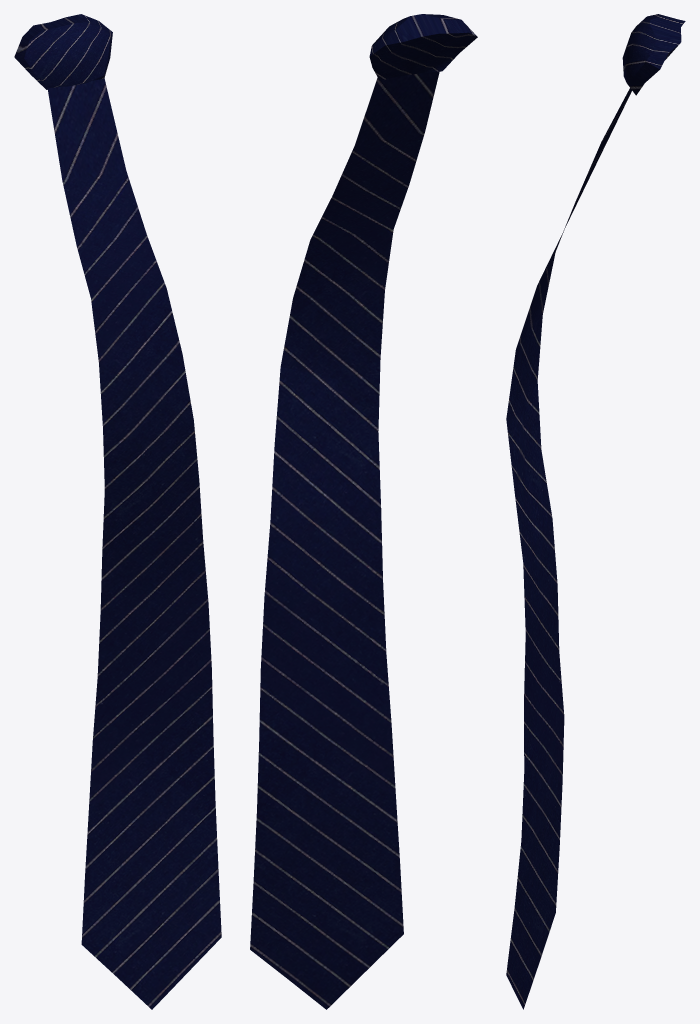
Rendered from Pose-1_Tie-4.fbx.
3 views of the same model, side by side, from view 1: azimuth 30°, elevation 25°; view 2: azimuth 210°, elevation 25°; view 3: azimuth 270°, elevation 25° (orthographic). The views are drawn at different scales.
Visible parts, largest first — view 1: Pose-1_Tie-4; view 2: Pose-1_Tie-4; view 3: Pose-1_Tie-4.
Boxes of the visible parts, x1,y1,x2,y2 form: Pose-1_Tie-4: (14,14,221,1009); Pose-1_Tie-4: (250,14,477,1009); Pose-1_Tie-4: (506,14,685,1009).
Bounding box in the file's own units: 7.46 × 51.29 × 8.53.
